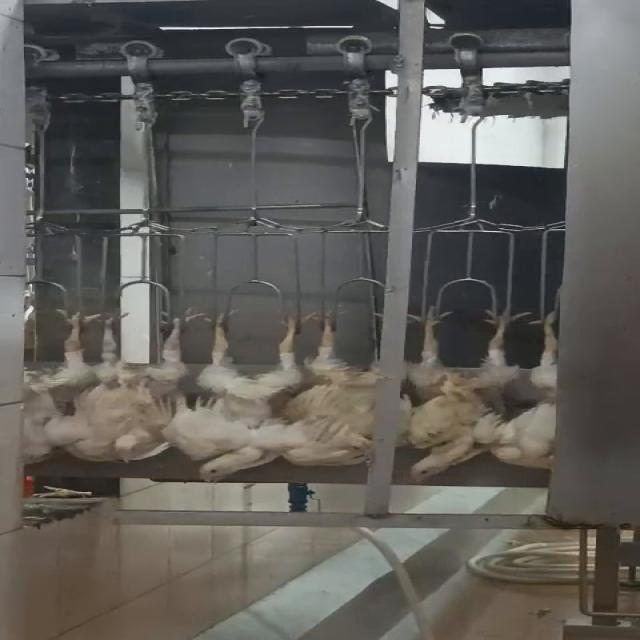chicken: (162, 304, 309, 486), (394, 304, 514, 486), (87, 304, 219, 467), (3, 297, 118, 467), (302, 307, 387, 475), (506, 314, 570, 468)
